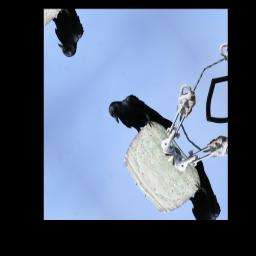Crow: (105, 75, 176, 160)
